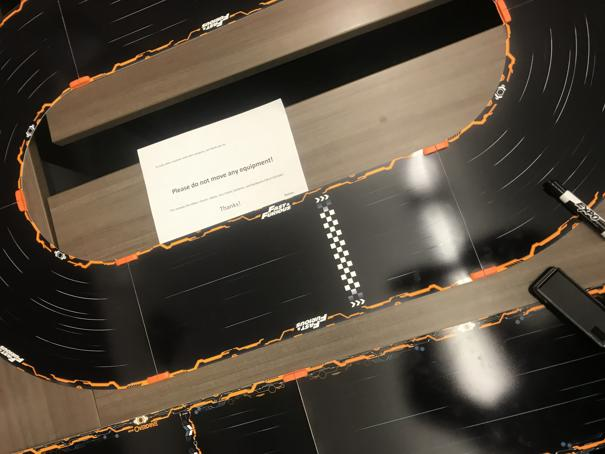Finish Line: (313, 194, 370, 308)
